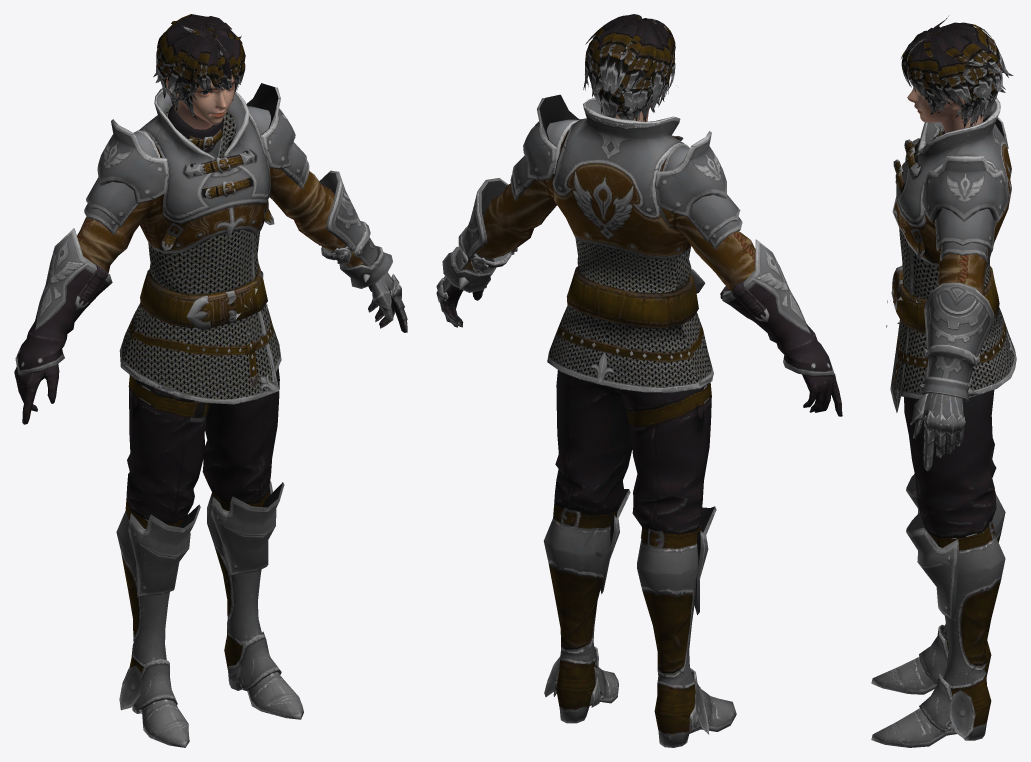
File: Nat_Base_1.fbx
3 renders of one model, left to right at view 1: azimuth 30°, elevation 25°; view 2: azimuth 150°, elevation 25°; view 3: azimuth 270°, elevation 25°, orthographic. The views are drawn at different scales.
Parts seen in each view (by area): view 1: Nat; view 2: Nat; view 3: Nat.
Boxes of the visible parts, x1,y1,x2,y2 form: Nat: (14,14,407,747); Nat: (436,14,842,747); Nat: (871,16,1016,747).
Bounding box in the file's own units: 108 × 183 × 35.23.
1 material, 1 textured.
